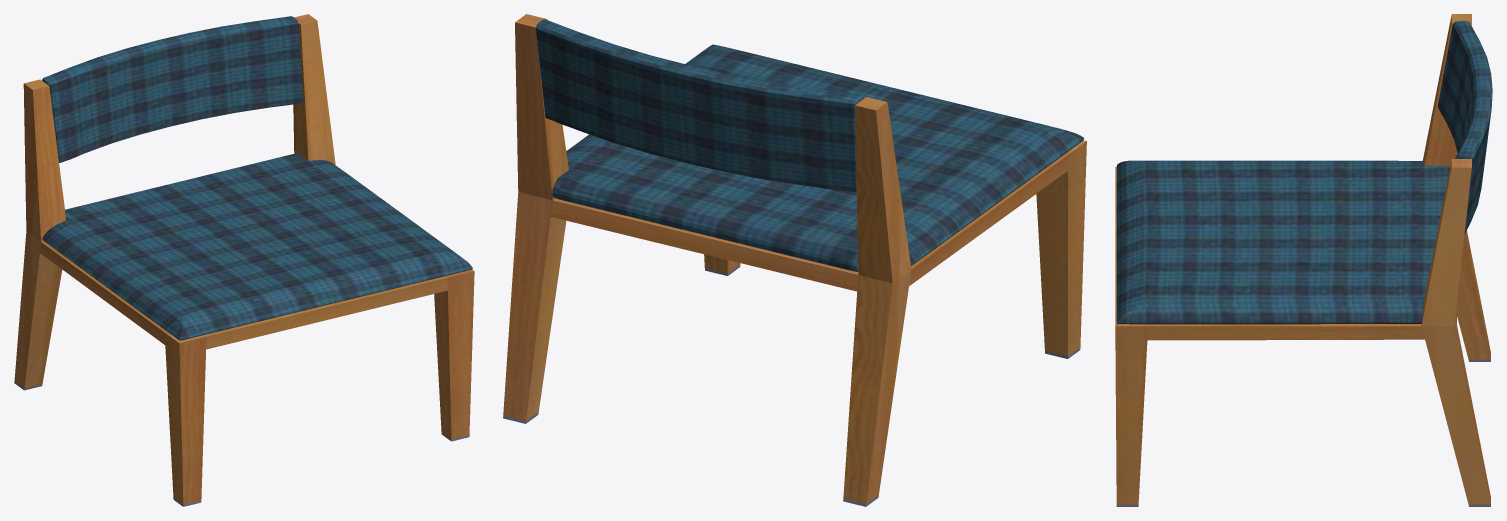
The model's file is sh-bsby-plaid-chair.glb.
The picture shows the model from 3 angles, left to right: view 1: azimuth 30°, elevation 25°; view 2: azimuth 150°, elevation 25°; view 3: azimuth 270°, elevation 25°; orthographic projection. The views are drawn at different scales.
Visible parts, largest first — view 1: Cube.001, Cube; view 2: Cube.001, Cube; view 3: Cube.001, Cube.
Part boxes in pixels (bbox=[...]): Cube.001: bbox=[42, 16, 472, 340]; Cube: bbox=[14, 14, 474, 506]; Cube.001: bbox=[536, 19, 1084, 271]; Cube: bbox=[503, 14, 1086, 506]; Cube.001: bbox=[1116, 20, 1492, 324]; Cube: bbox=[1115, 14, 1490, 506].
Bounding box in the file's own units: 1 × 1 × 1.
3 materials, 2 textured.
